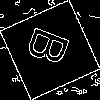B: (25, 25, 80, 72)
